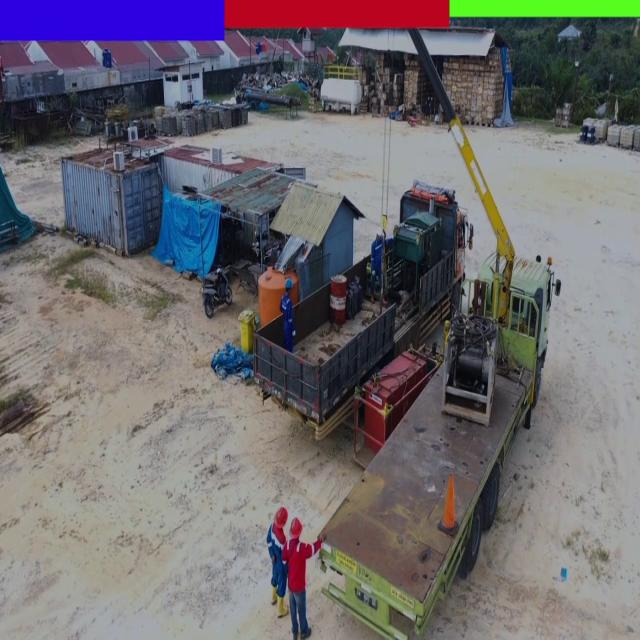Hardhat: (290, 517, 303, 539), (275, 506, 287, 528), (284, 275, 295, 289), (374, 225, 384, 239)
No Glove: (318, 529, 327, 543)
No Overall Suit: (282, 540, 321, 629), (280, 294, 295, 350), (370, 242, 386, 292)
Overall Suit: (267, 522, 287, 597)
Safety Boots: (277, 594, 288, 618), (270, 584, 278, 605), (380, 293, 388, 307), (369, 292, 375, 306)
